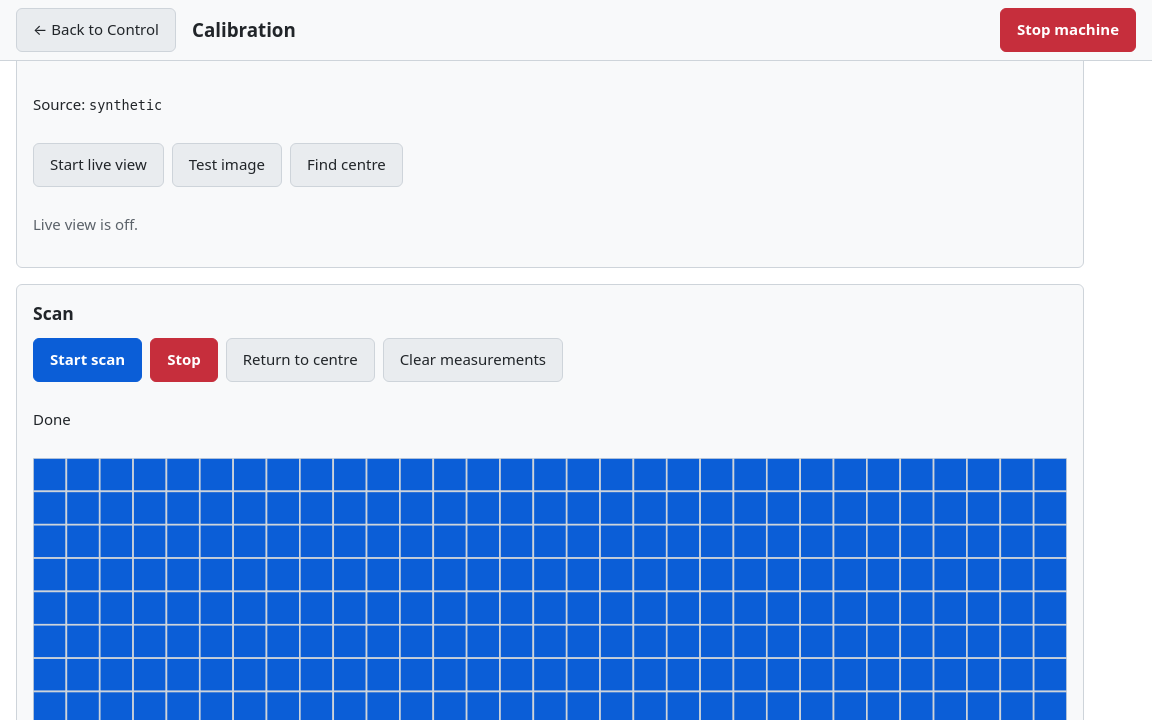
Test: optical scan › sends Stop, Return to centre and Clear measurements
(page scrolled)
Check: the text "Done" is shown, box 33,409 -> 71,429
Click the button "Stop".
click(184, 360)  # box 150,338 -> 218,382
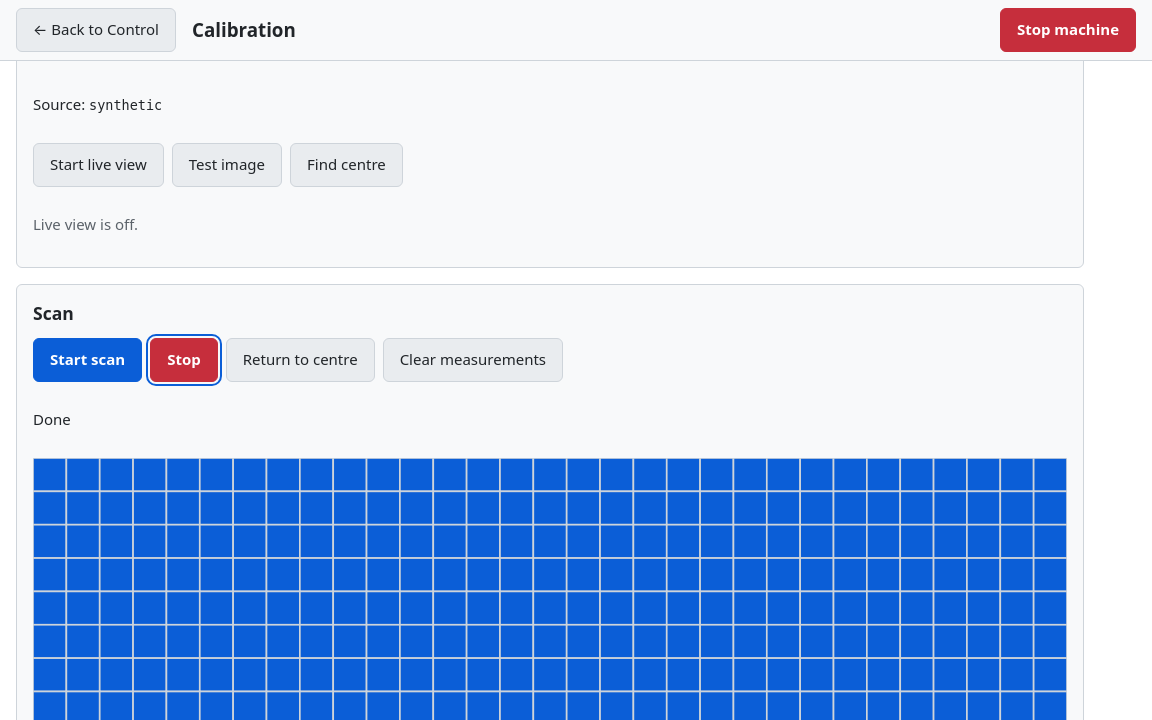
Click the button "Return to centre".
click(300, 360)  # box 226,338 -> 375,382
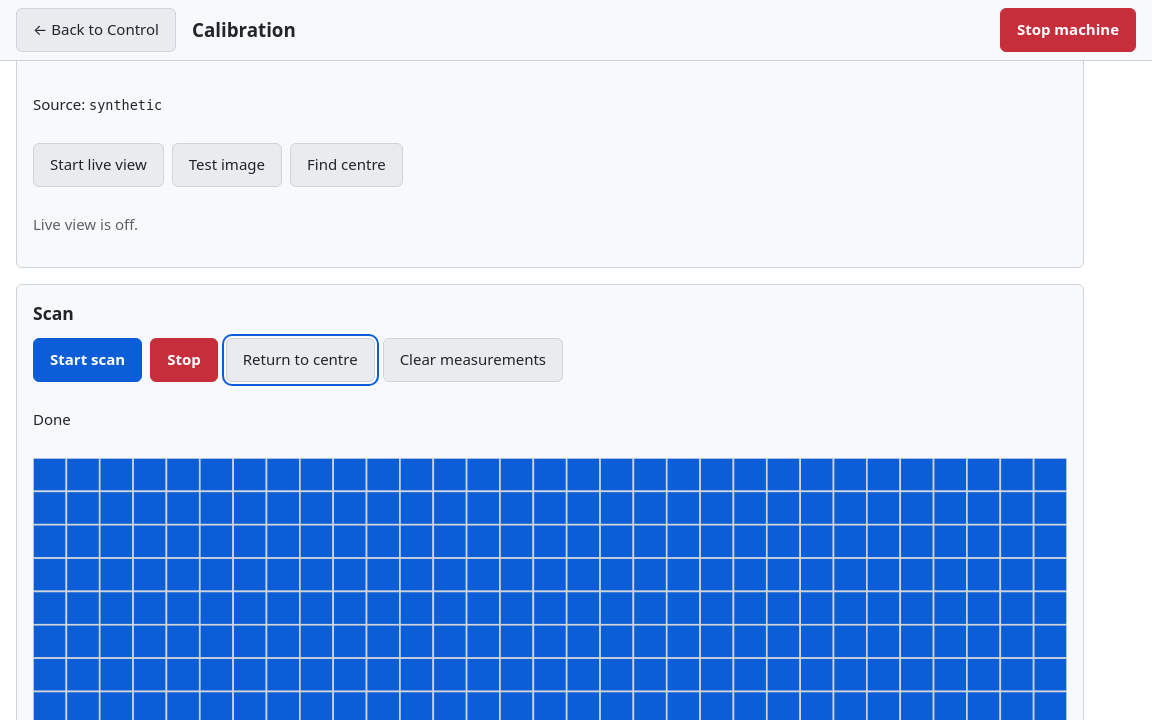
Click the button "Clear measurements".
click(473, 360)  # box 383,338 -> 563,382
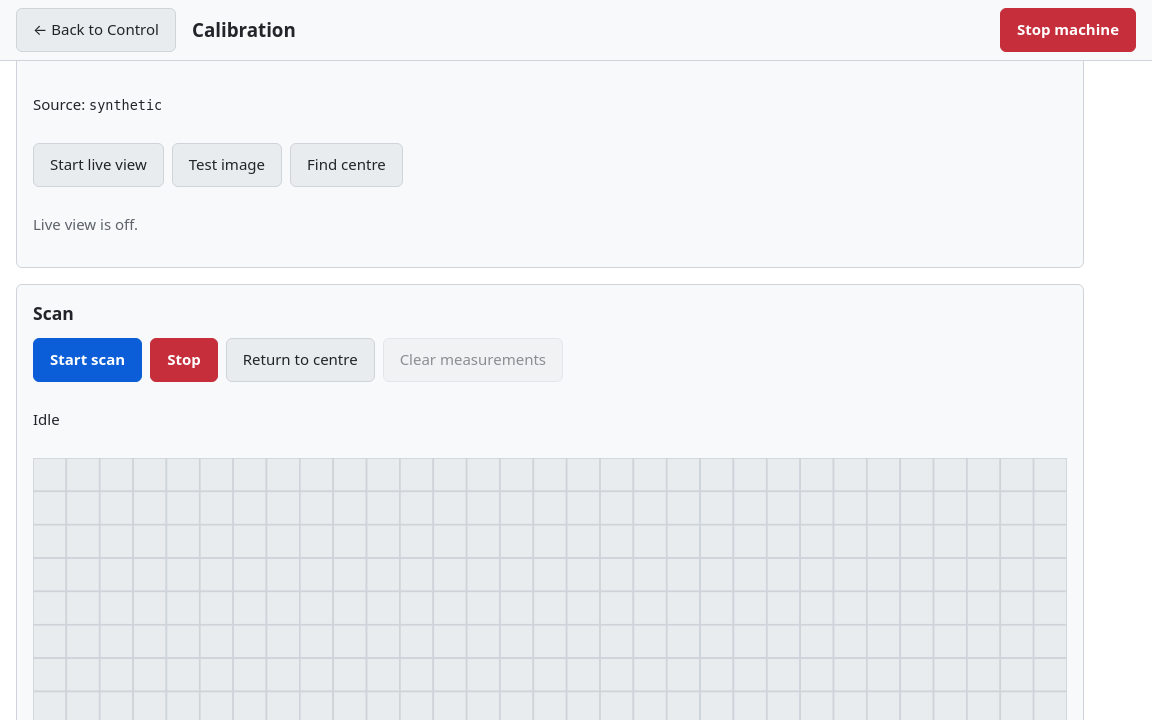
Check: the button "Clear measurements" is disabled, box 383,338 -> 563,382
